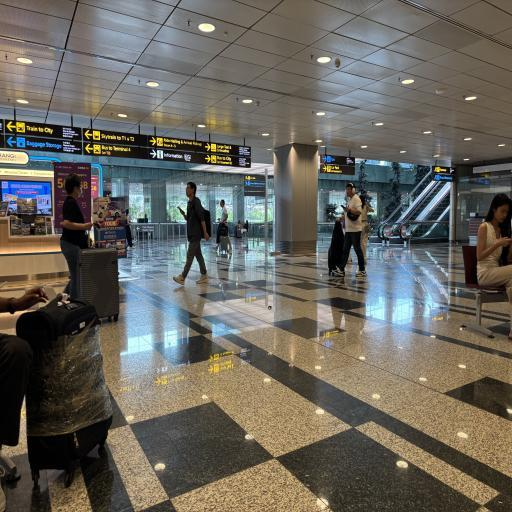person_left: (170, 165, 220, 287)
person_with_luggage_left: (320, 167, 383, 286)
person_with_luggage_right: (48, 160, 127, 322)
